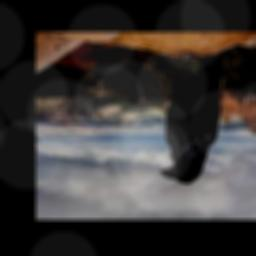Crow: (160, 51, 225, 185)
